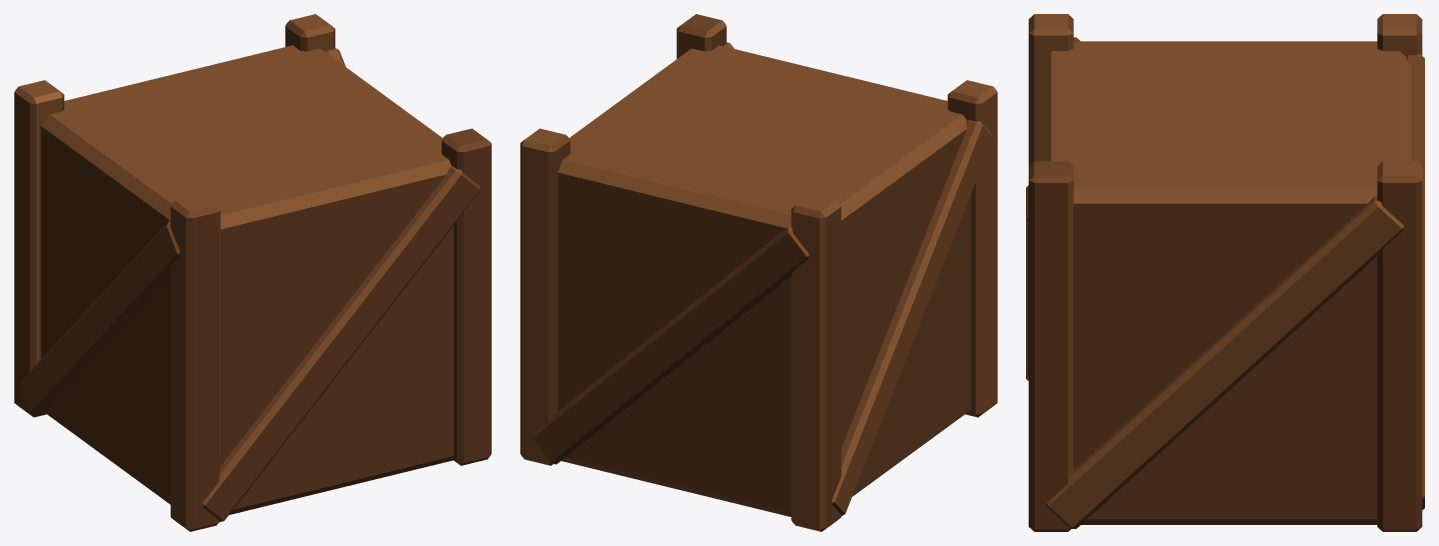
Rendered from SM_CRATE_01.fbx.
3 renders of one model, left to right at view 1: azimuth 30°, elevation 25°; view 2: azimuth 150°, elevation 25°; view 3: azimuth 270°, elevation 25°, orthographic. The views are drawn at different scales.
Parts seen in each view (by area): view 1: CRATE_01; view 2: CRATE_01; view 3: CRATE_01.
Boxes of the visible parts, x1,y1,x2,y2 form: CRATE_01: (14, 14, 491, 531); CRATE_01: (520, 14, 997, 531); CRATE_01: (1026, 14, 1424, 531).
Size of the model in its own units: 0.71 by 0.71 by 0.7.
